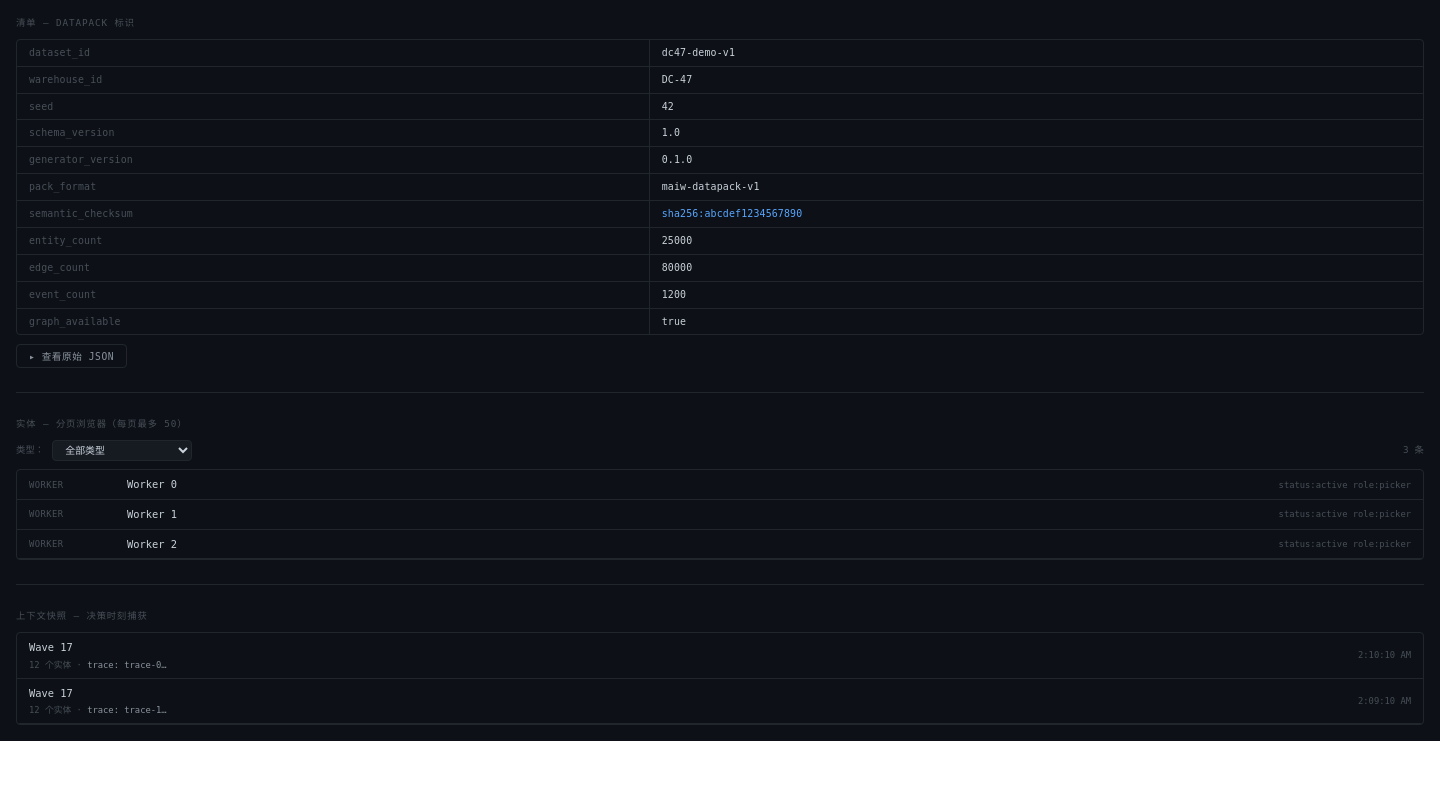
Phase 17F — WorldRaw › R3: VIEW RAW JSON toggle reveals raw JSON block
Click the button with test id "manifest-raw-toggle" at (72, 356), box [16,344,127,368]
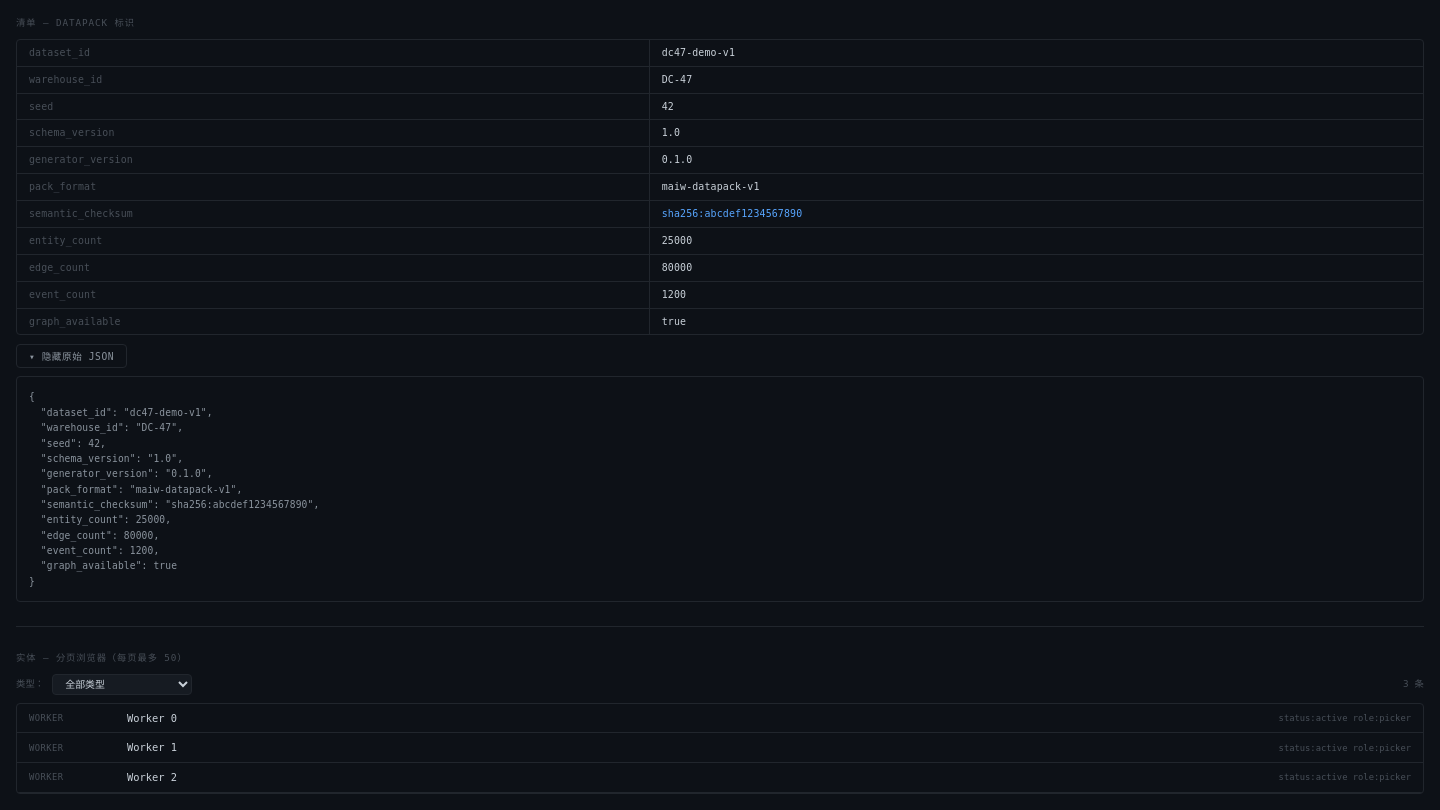
Check: the element with test id "manifest-raw-json" is shown, box [16,376,1424,602]
